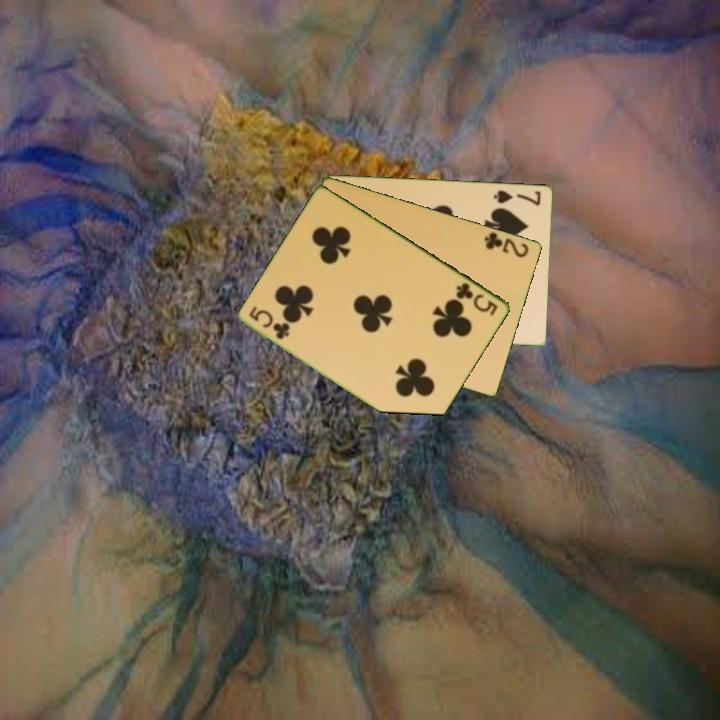2c: (481, 228, 532, 260)
5c: (453, 279, 501, 319), (246, 303, 293, 342)
7s: (491, 186, 544, 208)
